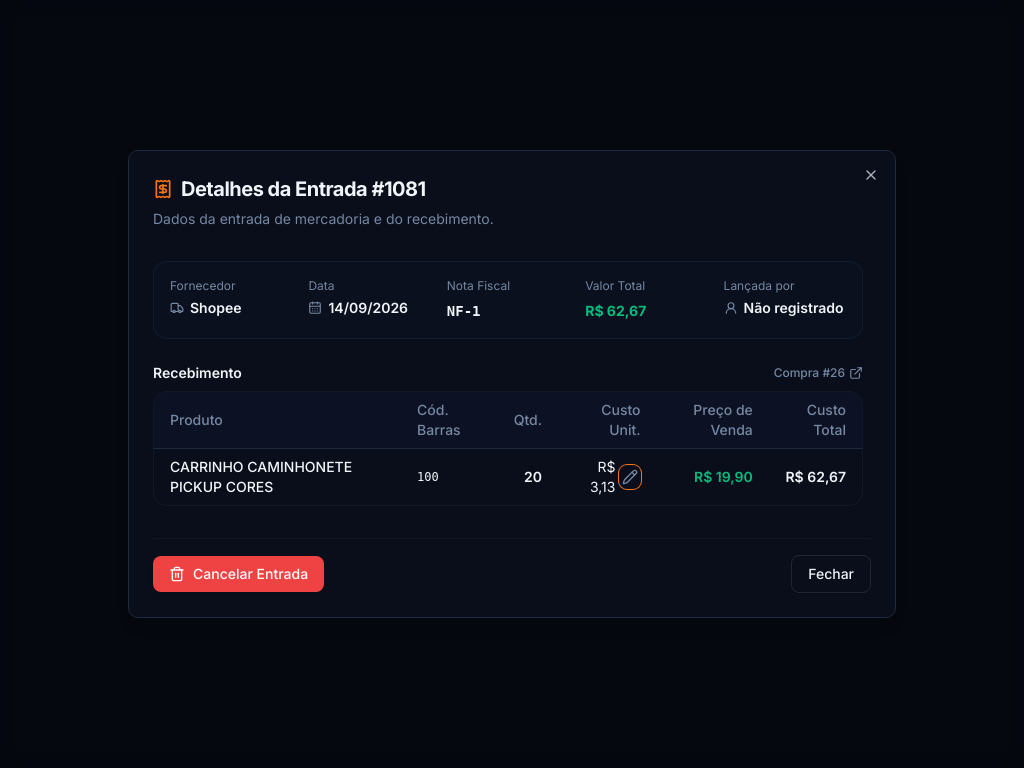
it: StockEntryDetailsModal › correção do custo › Esc no campo desiste da correção sem fechar a nota
Click the button named "Corrigir o custo de CARRINHO": (630, 477) [619,465,641,489]
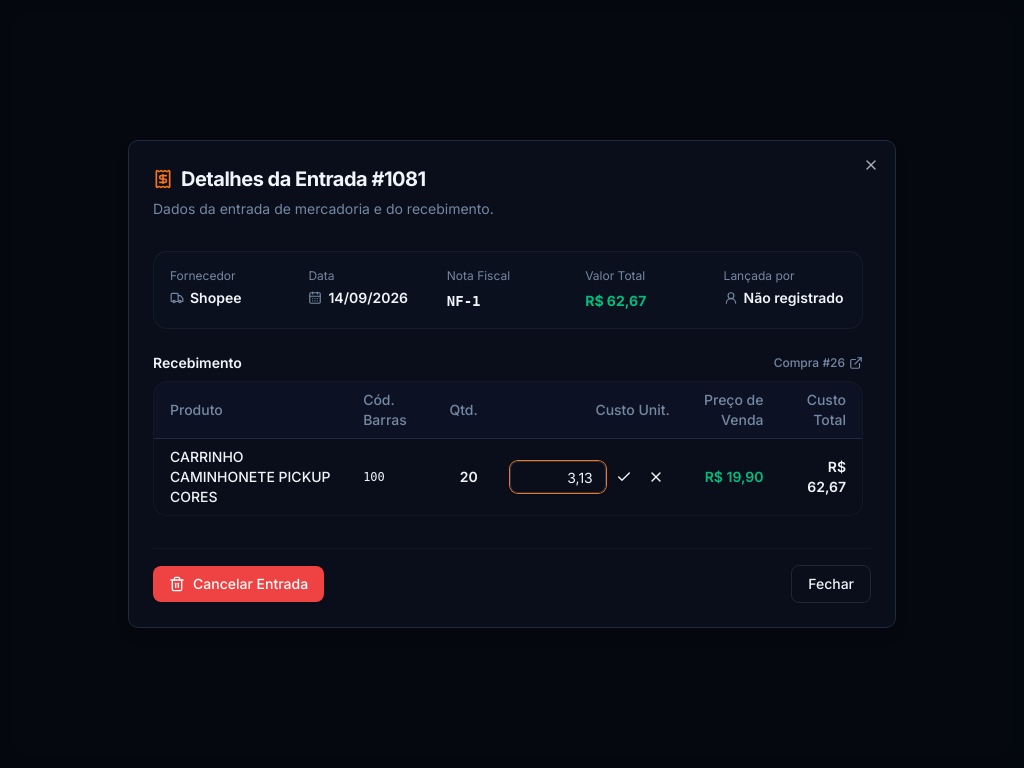
Press Escape in the field named "Novo custo unitário", box [510,461,606,493]
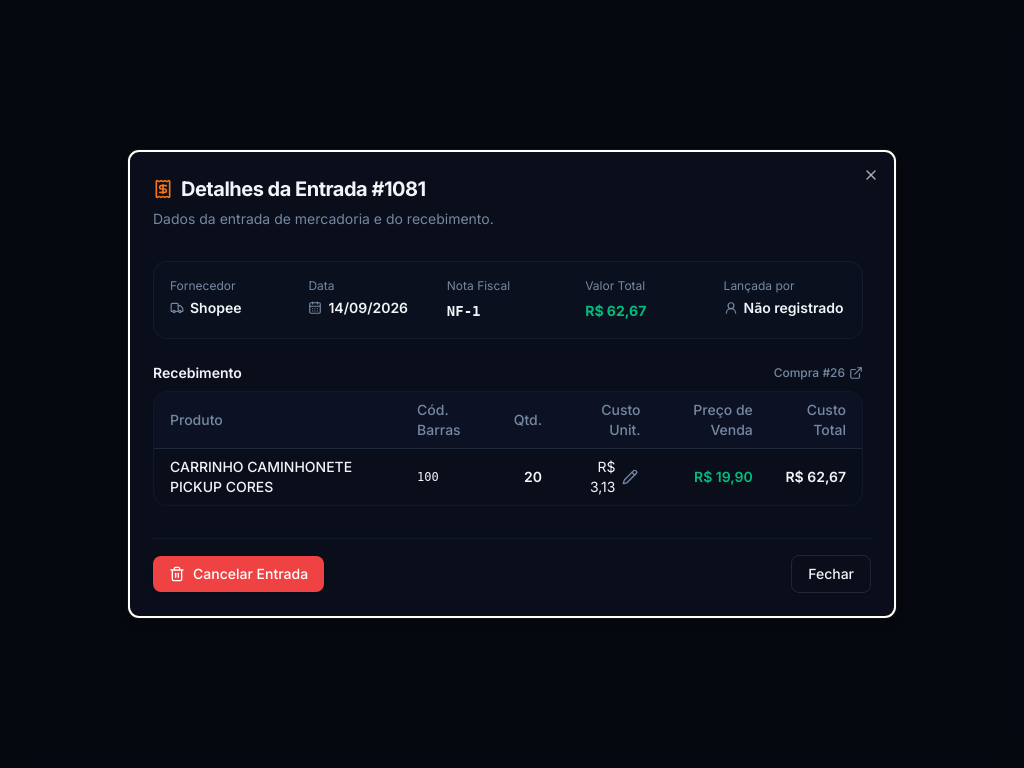
Expected: the button named "Corrigir o custo de CARRINHO" is shown, [619,465,641,489]
